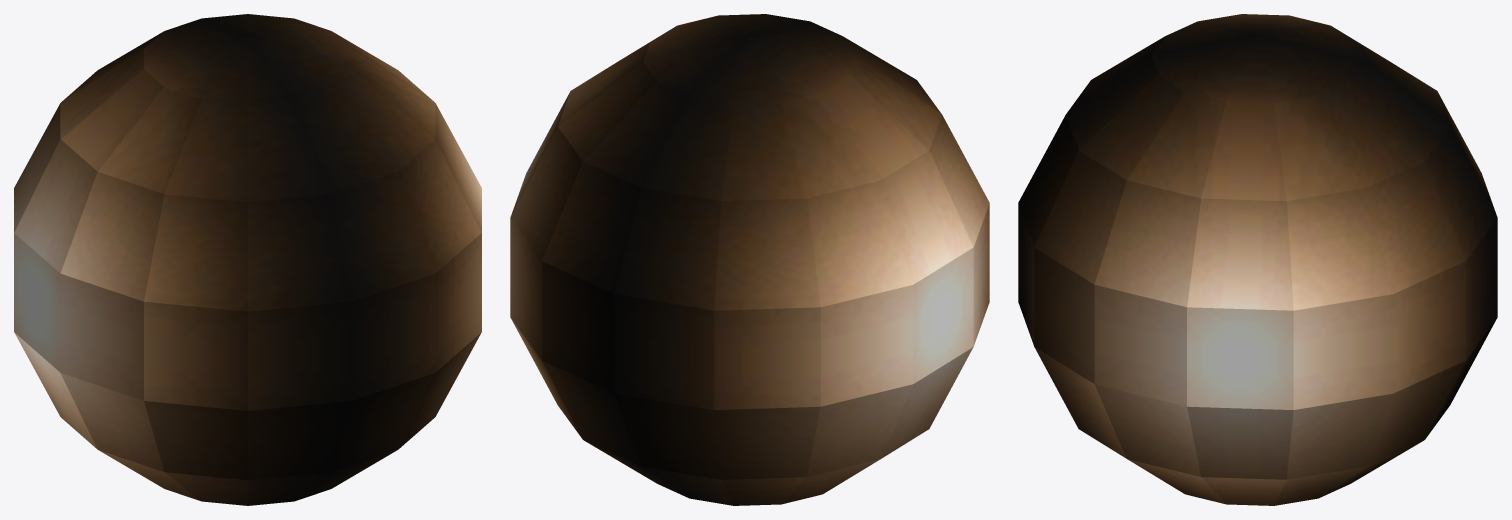
Rendered from tx_necromancer_herongdan_fire.obj.
The picture shows the model from 3 angles, left to right: view 1: azimuth 30°, elevation 25°; view 2: azimuth 150°, elevation 25°; view 3: azimuth 270°, elevation 25°; orthographic projection.
Parts seen in each view (by area): view 1: Sphere04; view 2: Sphere04; view 3: Sphere04.
Part boxes in pixels (bbox=[...]): Sphere04: bbox=[14, 14, 481, 505]; Sphere04: bbox=[510, 14, 989, 505]; Sphere04: bbox=[1018, 14, 1497, 505].
Size of the model in its own units: 29.31 by 30.4 by 29.56.
1 material, 1 textured.
